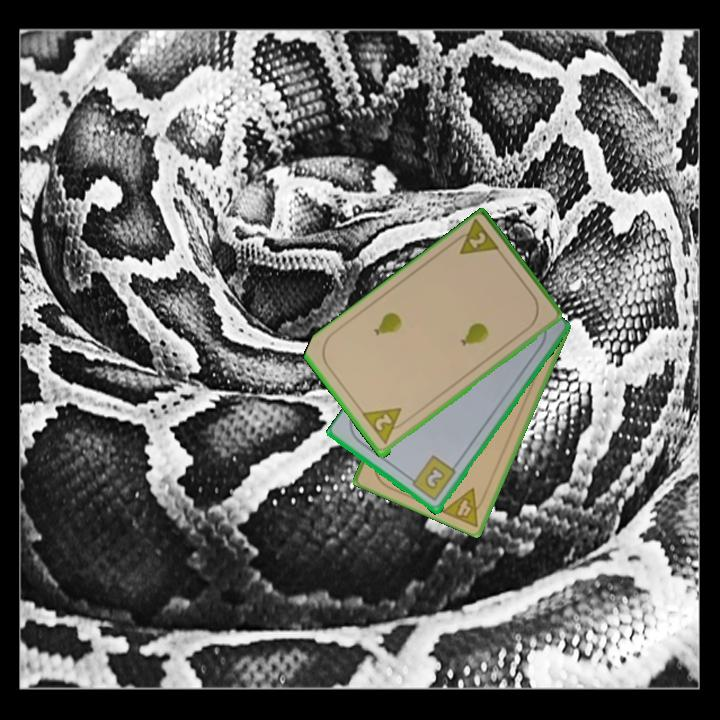2b: (405, 452, 459, 504)
2p: (359, 404, 411, 449), (465, 228, 489, 252)
4p: (438, 484, 490, 530)
